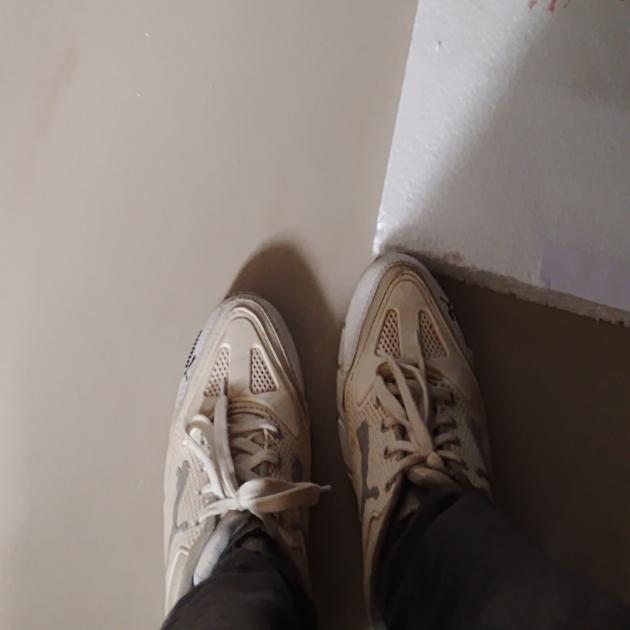shoes: (116, 186, 519, 630)
